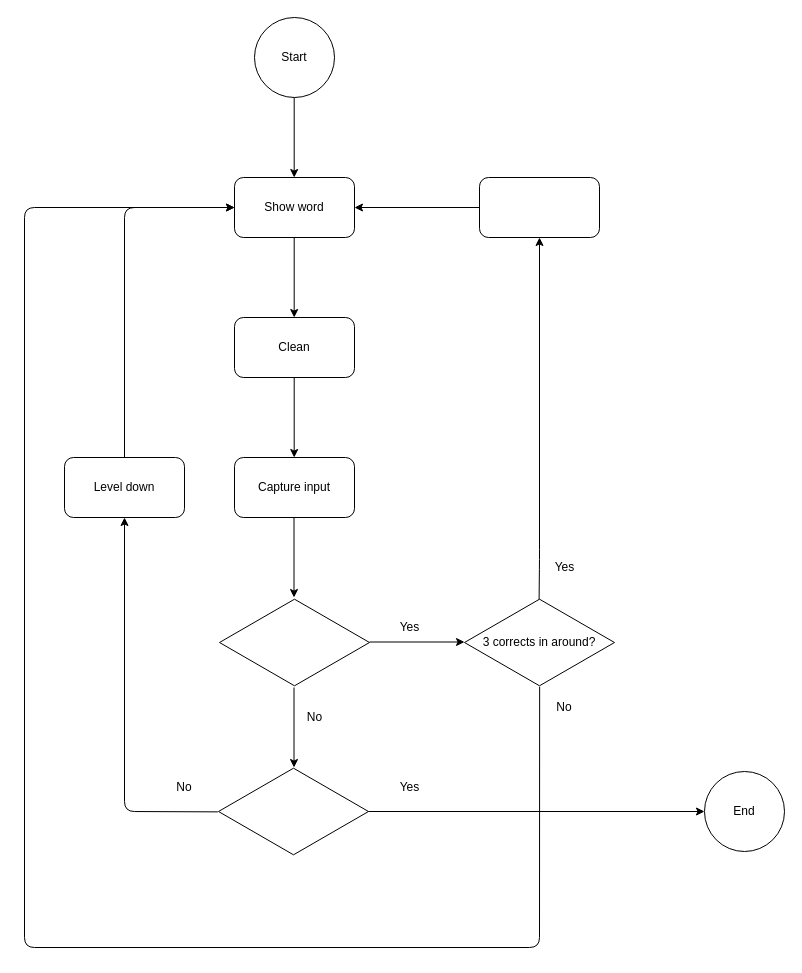
Image size: 802x973. Some labels were removed from this diagram. Here are the shapes that lost their labels. From the top down, the centre of each, then its label:
At point 539,207: "Level up".
At point 294,642: "Is correct?".
At point 293,811: "3 incorrects?".
